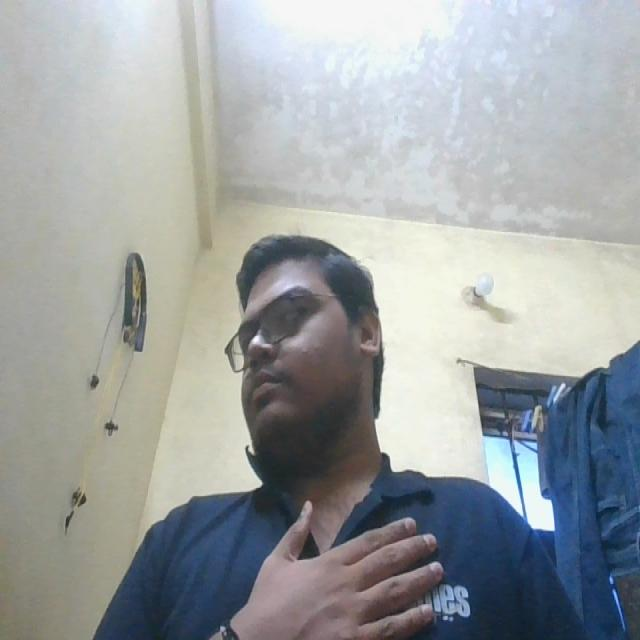Please: (239, 493, 455, 640)
